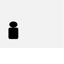human: (6, 19, 20, 41)
